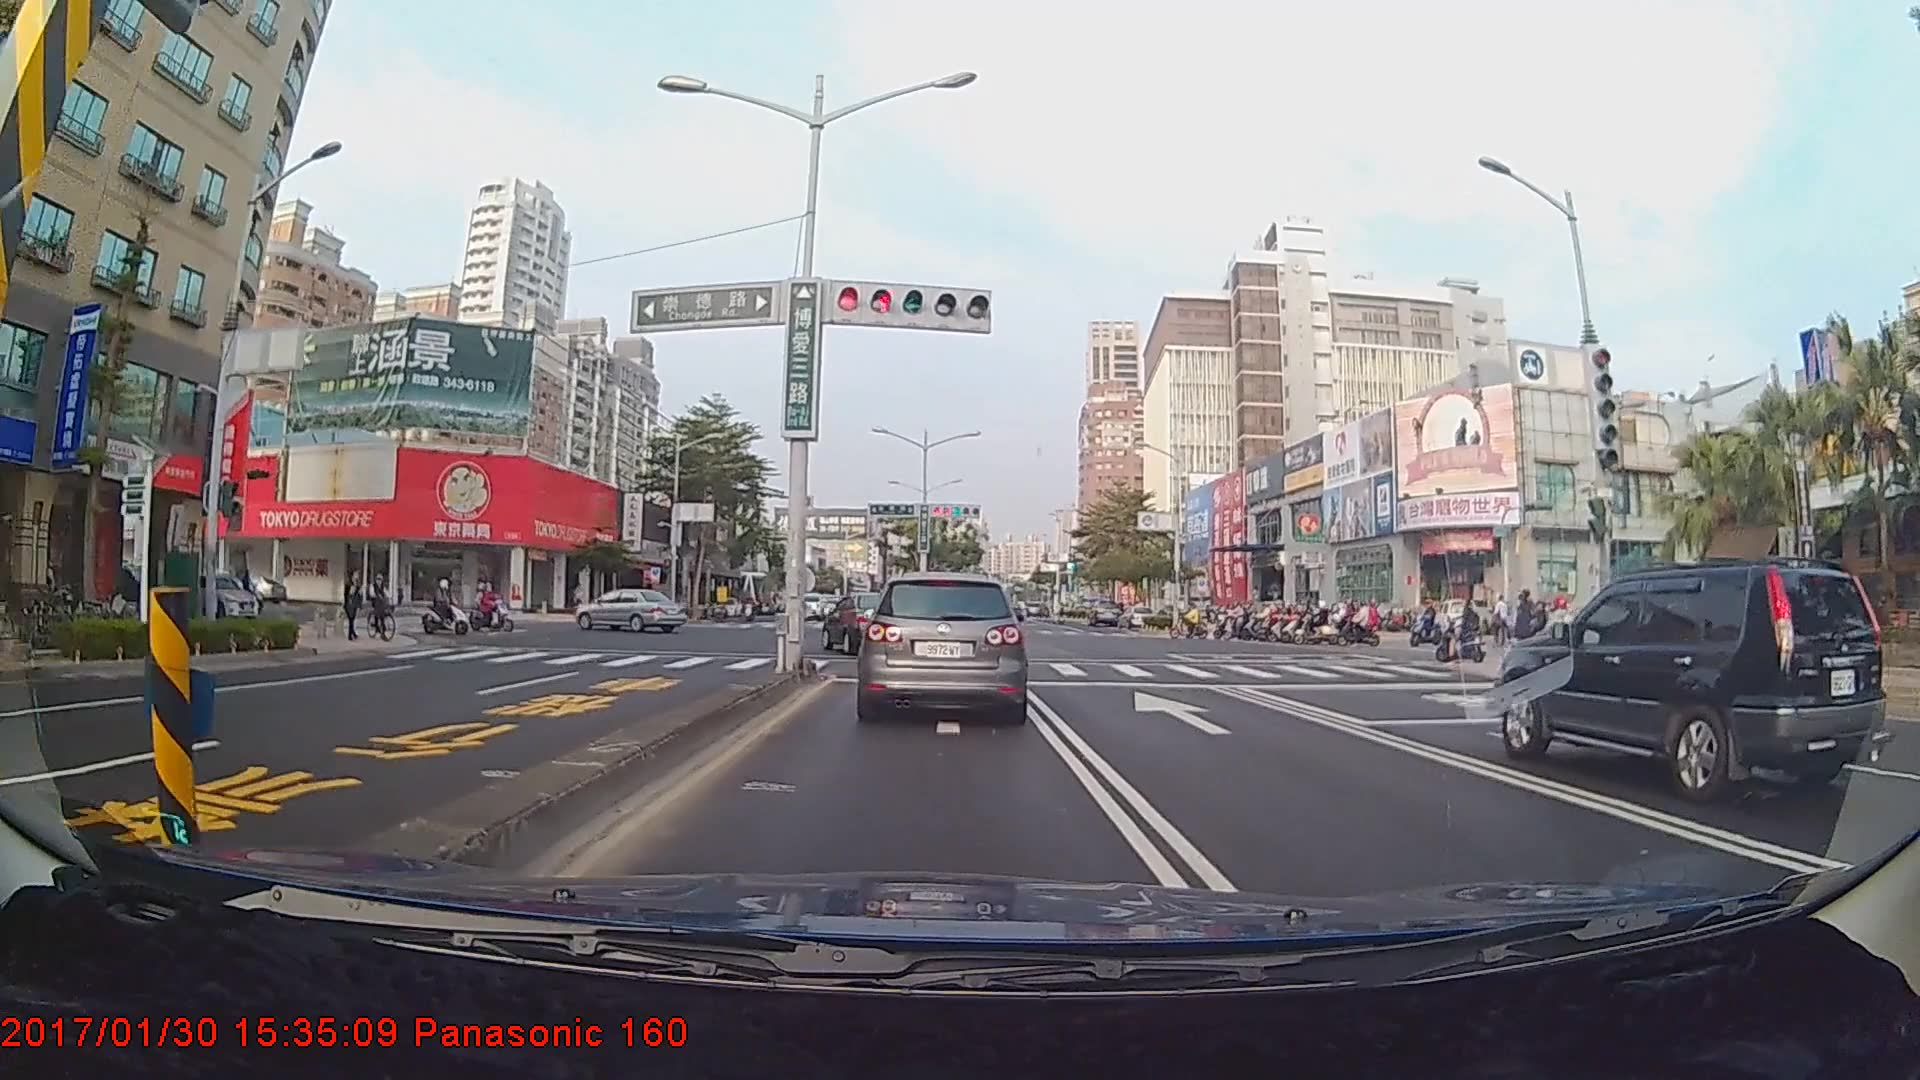pedestrian: (1509, 587, 1538, 672), (343, 565, 365, 646)
rider: (1437, 600, 1497, 663), (423, 577, 475, 640), (367, 566, 405, 640), (463, 577, 514, 632), (1341, 593, 1384, 647), (1307, 601, 1353, 645), (1174, 599, 1212, 638)
vehicle: (1489, 559, 1890, 805), (853, 562, 1031, 720), (819, 590, 915, 656), (574, 585, 686, 633), (1087, 599, 1122, 627)
